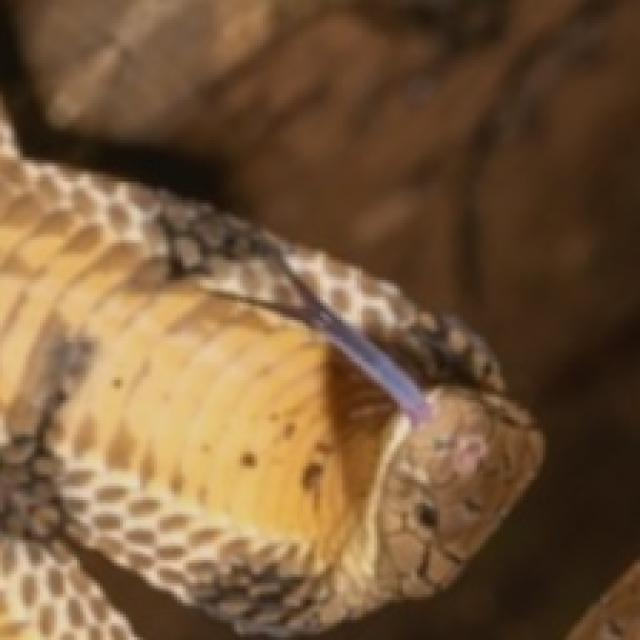king cobra: (0, 157, 540, 637), (0, 0, 317, 211), (320, 40, 414, 131)
